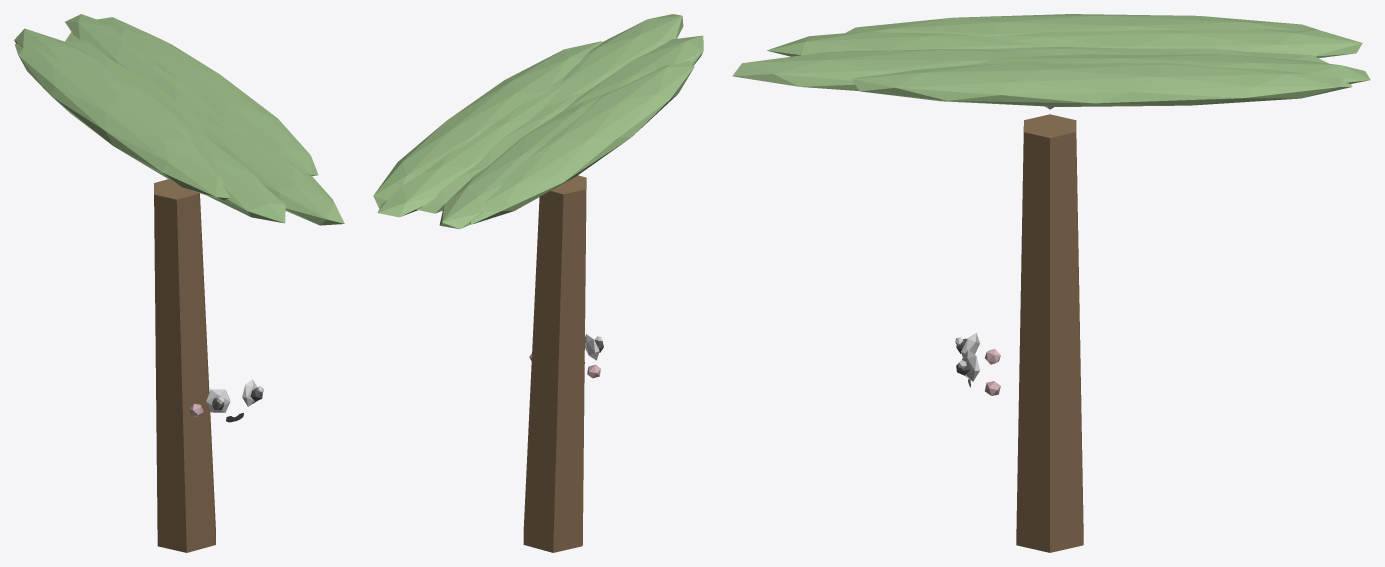
The model's file is livistona-chinensis.glb.
3 views of the same model, side by side, from view 1: azimuth 30°, elevation 25°; view 2: azimuth 150°, elevation 25°; view 3: azimuth 270°, elevation 25° (orthographic). The views are drawn at different scales.
Visible parts, largest first — view 1: trunk, frond3, frond0, frond1, frond6, frond2, frond4, frond5; view 2: trunk, frond3, frond0, frond6, frond4, frond1, frond2, frond5; view 3: trunk, frond0, frond4, frond3, frond1, frond6, frond2, frond5.
Boxes of the visible parts, x1,y1,x2,y2 form: trunk: [154, 179, 215, 552]; frond3: [15, 40, 230, 200]; frond0: [96, 17, 318, 175]; frond1: [193, 112, 344, 225]; frond6: [65, 14, 249, 137]; frond2: [178, 119, 285, 223]; frond4: [14, 28, 191, 141]; frond5: [65, 32, 209, 139]; trunk: [523, 175, 586, 552]; frond3: [469, 60, 694, 224]; frond0: [373, 41, 601, 208]; frond6: [377, 75, 565, 217]; frond4: [439, 93, 606, 229]; frond1: [544, 14, 683, 107]; frond2: [563, 35, 703, 111]; frond5: [416, 90, 588, 213]; trunk: [1016, 114, 1083, 552]; frond0: [851, 61, 1352, 106]; frond4: [984, 29, 1362, 58]; frond3: [846, 14, 1327, 36]; frond1: [732, 49, 1053, 90]; frond6: [962, 54, 1370, 83]; frond2: [767, 31, 1048, 56]; frond5: [986, 47, 1328, 63].
Size of the model in its own units: 0.2318 by 0.6298 by 0.7414.
